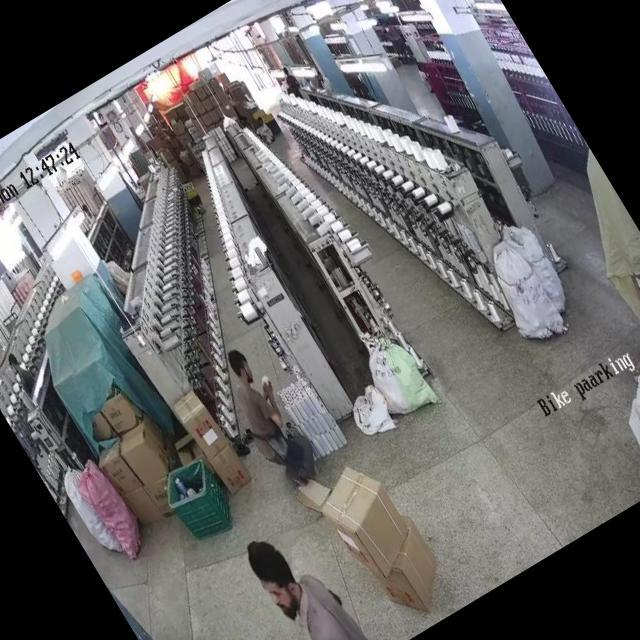person: (240, 519, 378, 640), (210, 340, 317, 480), (1, 345, 42, 396), (278, 64, 304, 95)
